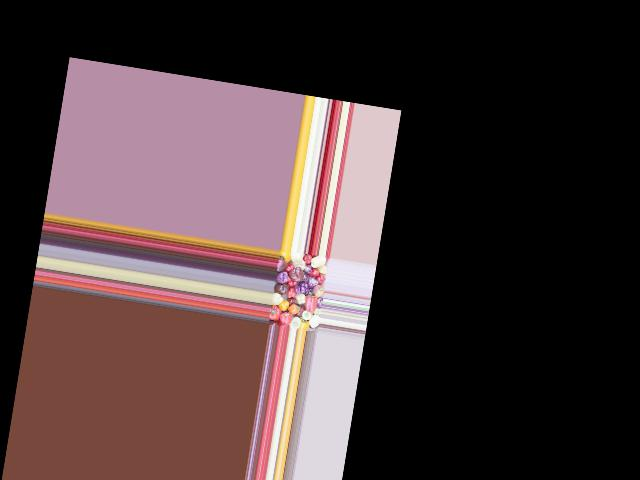bell_pepper: (289, 314, 300, 329)
